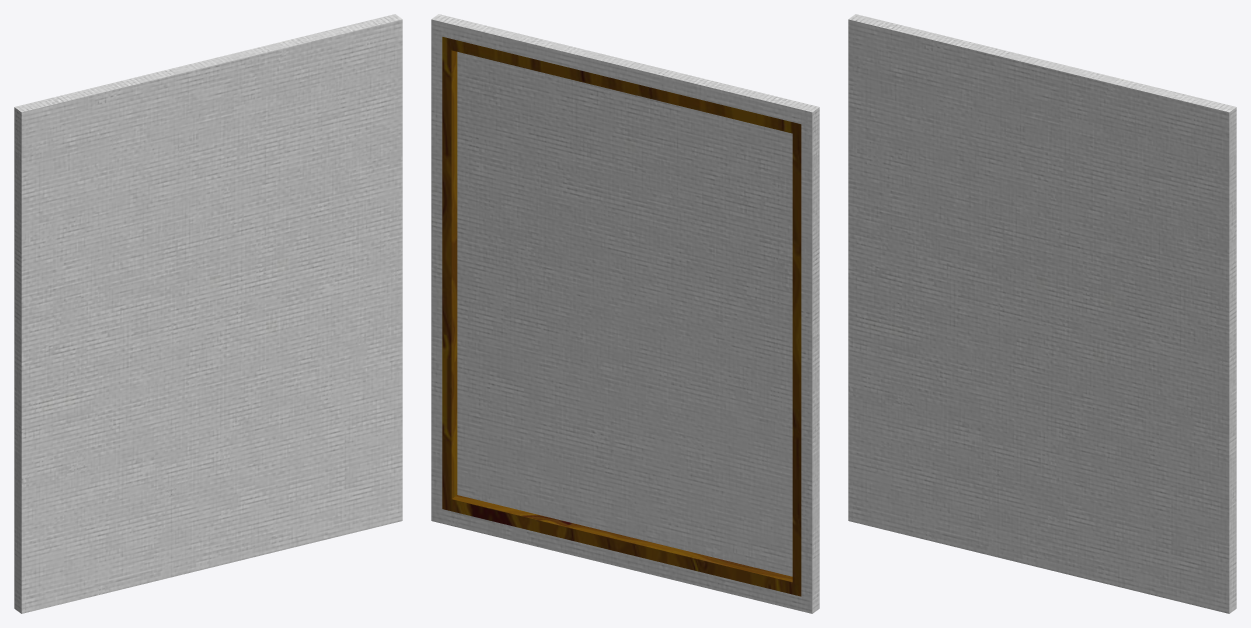
File: painting-canvas.gltf
The picture shows the model from 3 angles, left to right: view 1: azimuth 30°, elevation 25°; view 2: azimuth 150°, elevation 25°; view 3: azimuth 330°, elevation 25°; orthographic projection.
Visible parts, largest first — view 1: painting_canvas; view 2: painting_canvas (×2); view 3: painting_canvas.
Part boxes in pixels (x1,y1,x2,y2): painting_canvas: [14, 14, 402, 613]; painting_canvas (×2): [431, 14, 819, 613]; painting_canvas: [848, 14, 1236, 613].
Size of the model in its own units: 3.17 by 3.98 by 0.1059.
Materials: 2 (2 with a texture image).
